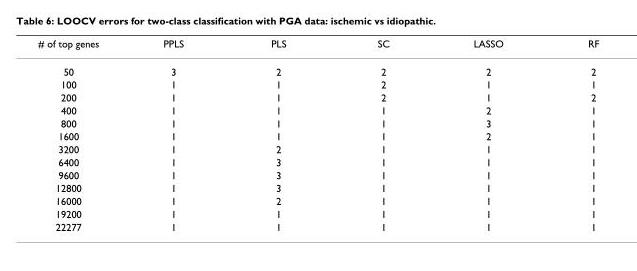table: (37, 37, 598, 232)
table column: (430, 37, 545, 232), (226, 37, 331, 232), (331, 37, 430, 232), (130, 37, 226, 232), (37, 37, 130, 232), (545, 37, 598, 232)
table column header: (37, 37, 598, 57)
table row: (37, 37, 598, 57), (37, 57, 598, 77), (37, 77, 598, 90), (37, 90, 598, 103), (37, 103, 598, 116), (37, 116, 598, 129), (37, 129, 598, 142), (37, 142, 598, 155), (37, 155, 598, 168), (37, 168, 598, 181), (37, 181, 598, 194), (37, 206, 598, 219), (37, 219, 598, 232), (37, 194, 598, 206)
